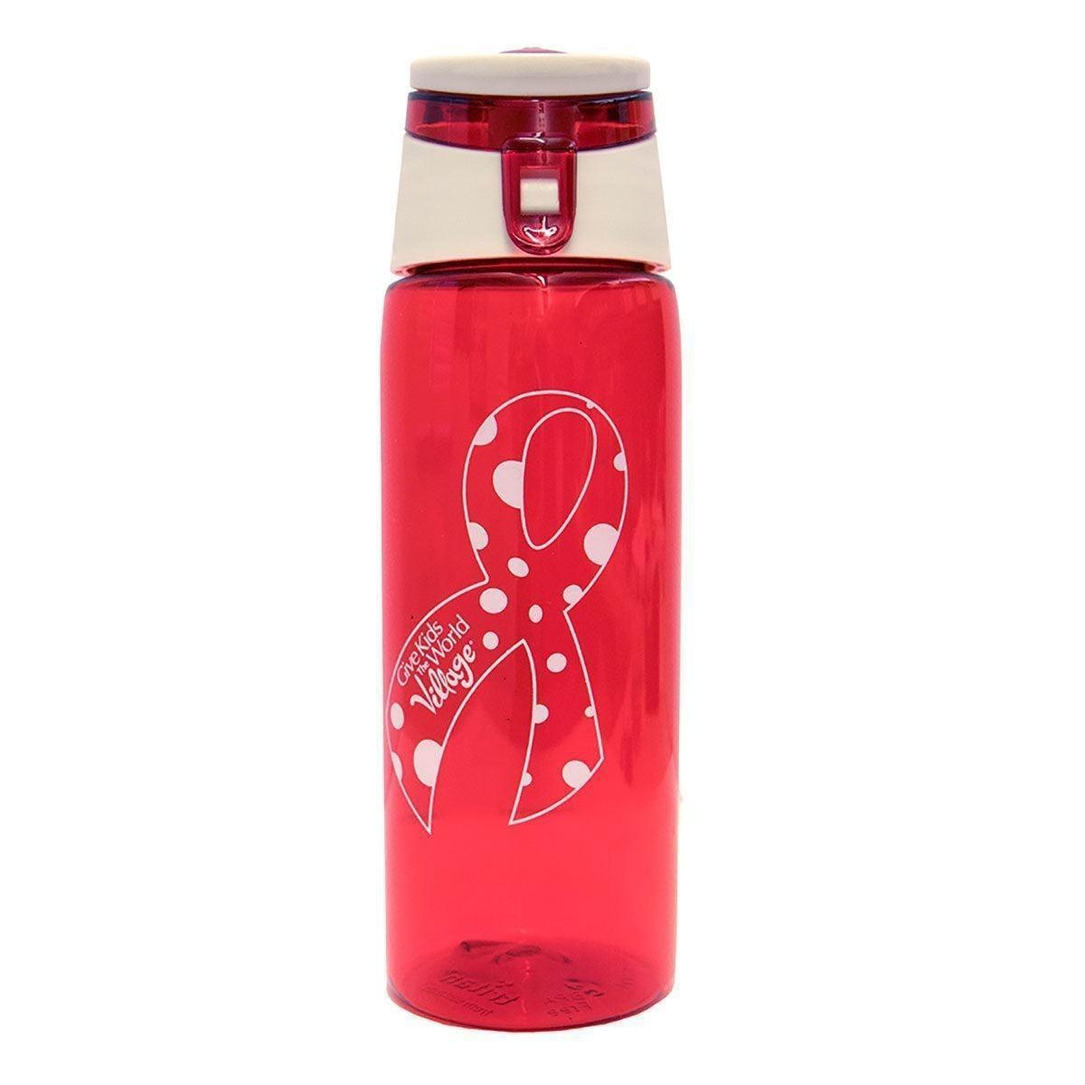gym bottle: (364, 38, 686, 1033)
